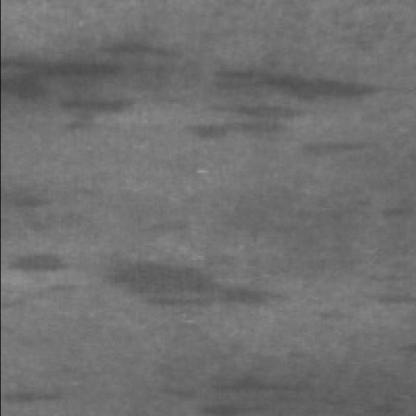inclusion: (177, 54, 397, 146), (0, 42, 179, 124), (90, 250, 291, 314), (152, 364, 306, 414), (0, 247, 73, 287), (292, 134, 376, 164), (2, 385, 58, 414)
